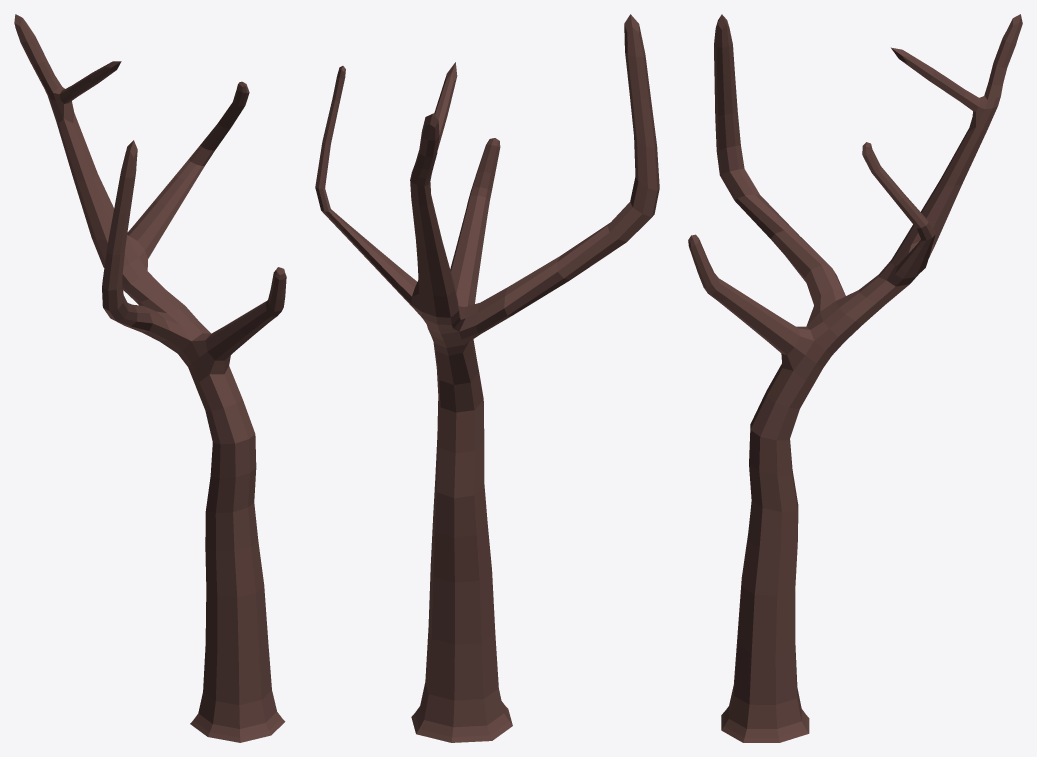
File: commontree_dead4.glb
3 views of the same model, side by side, from view 1: azimuth 30°, elevation 25°; view 2: azimuth 150°, elevation 25°; view 3: azimuth 270°, elevation 25° (orthographic). The views are drawn at different scales.
Visible parts, largest first — view 1: CommonTree_Dead_4; view 2: CommonTree_Dead_4; view 3: CommonTree_Dead_4.
Part boxes in pixels (x1=…): CommonTree_Dead_4: x1=14, y1=14, x2=286, y2=742; CommonTree_Dead_4: x1=315, y1=14, x2=659, y2=742; CommonTree_Dead_4: x1=688, y1=14, x2=1022, y2=742.
Size of the model in its own units: 0.8161 by 2.37 by 1.08.
